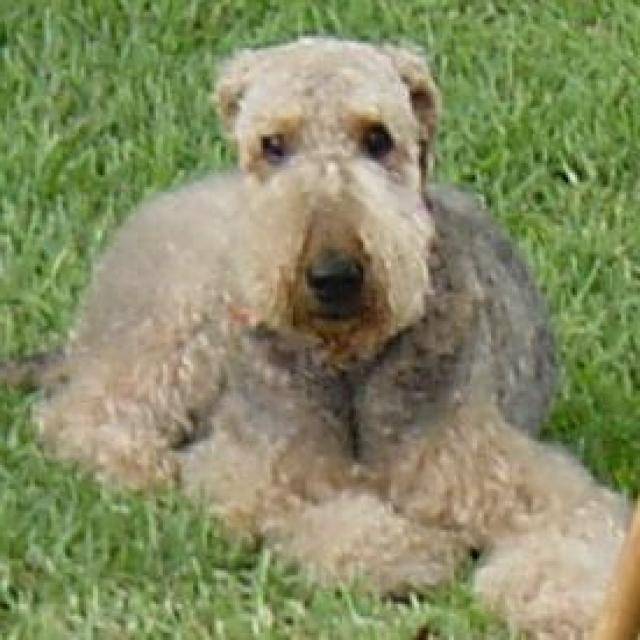airedale: (2, 33, 636, 638)
